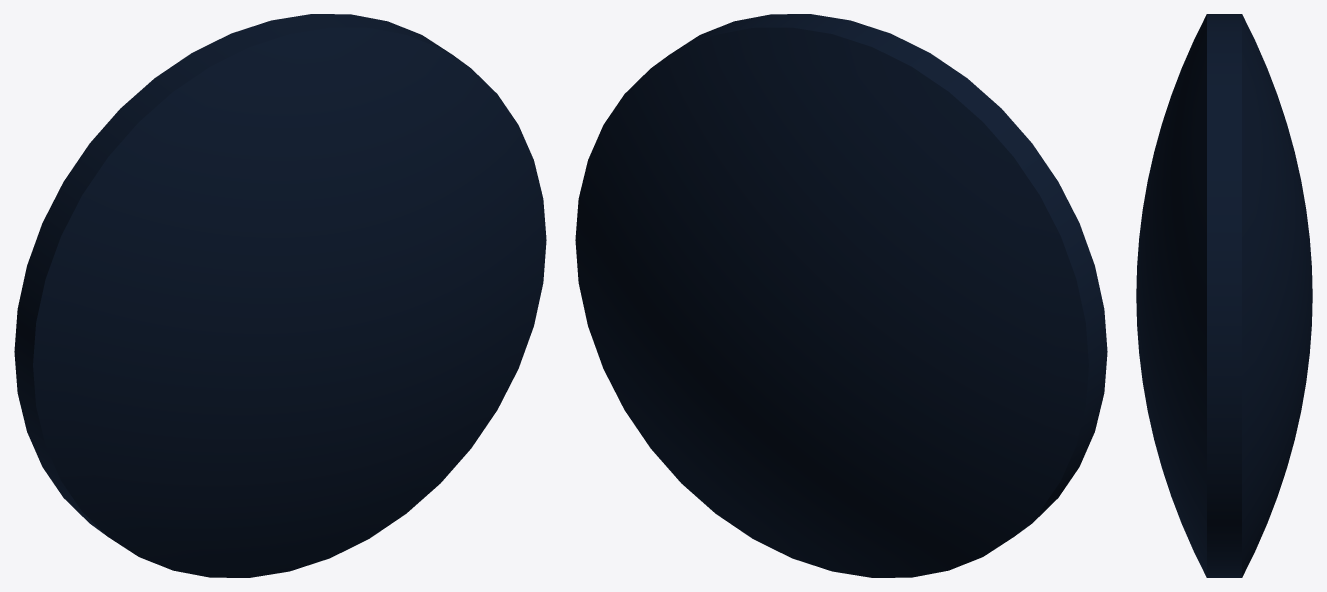
The model's file is defaultLeftEye.dae.
3 views of the same model, side by side, from view 1: azimuth 30°, elevation 25°; view 2: azimuth 150°, elevation 25°; view 3: azimuth 270°, elevation 25° (orthographic). The views are drawn at different scales.
Parts seen in each view (by area): view 1: Oil_Tank; view 2: Oil_Tank; view 3: Oil_Tank.
Part boxes in pixels (x1=…): Oil_Tank: x1=14, y1=14, x2=546, y2=577; Oil_Tank: x1=575, y1=14, x2=1107, y2=577; Oil_Tank: x1=1136, y1=14, x2=1312, y2=577.
Bounding box in the file's own units: 16 × 16 × 5.
